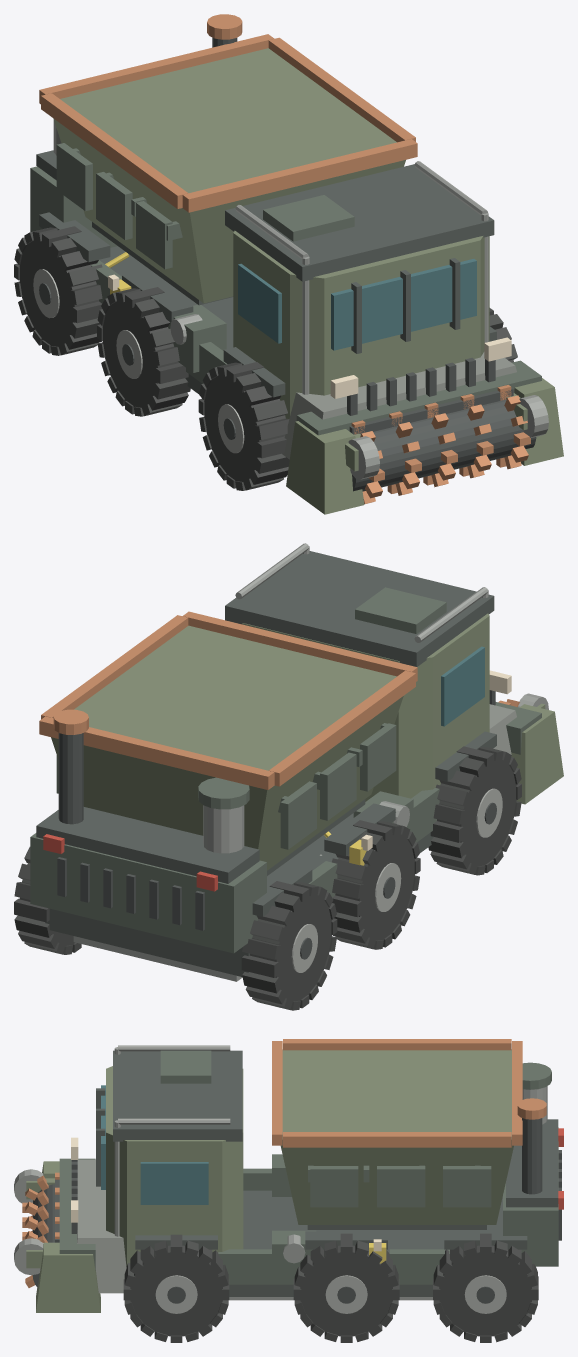
The model's file is aegis_field_harvester_v2.glb.
3 views of the same model, one above another, from view 1: azimuth 30°, elevation 25°; view 2: azimuth 150°, elevation 25°; view 3: azimuth 270°, elevation 25° (orthographic). The views are drawn at different scales.
Parts seen in each view (by area): view 1: Static_primary, Static_armor_dark, Static_secondary, Static_accent, Static_glass, FrontLeftWheelSpinRoot_Tire, RearLeftWheelSpinRoot_Tire, MidLeftWheelSpinRoot_Tire, CollectorDrum, CollectorTeeth, Static_steel_dark, Static_steel (+8 smaller); view 2: Static_primary, Static_armor_dark, Static_secondary, Static_accent, RearLeftWheelSpinRoot_Tire, FrontLeftWheelSpinRoot_Tire, MidLeftWheelSpinRoot_Tire, Static_steel_dark, Static_steel, RearRightWheelSpinRoot_Tire, Static_glass, Static_armor (+6 smaller); view 3: Static_primary, Static_armor_dark, Static_secondary, Static_accent, FrontRightWheelSpinRoot_Tire, RearRightWheelSpinRoot_Tire, MidRightWheelSpinRoot_Tire, Static_armor, Static_steel, Static_glass, Static_steel_dark, CollectorTeeth (+8 smaller).
Boxes of the visible parts, left/top/right/bottom form: Static_primary: left=53, top=48, right=563, bottom=514; Static_armor_dark: left=36, top=150, right=496, bottom=397; Static_secondary: left=30, top=143, right=541, bottom=435; Static_accent: left=39, top=14, right=417, bottom=212; Static_glass: left=238, top=259, right=476, bottom=350; FrontLeftWheelSpinRoot_Tire: left=198, top=362, right=289, bottom=490; RearLeftWheelSpinRoot_Tire: left=14, top=226, right=102, bottom=355; MidLeftWheelSpinRoot_Tire: left=97, top=287, right=190, bottom=416; CollectorDrum: left=352, top=399, right=536, bottom=491; CollectorTeeth: left=351, top=385, right=530, bottom=504; Static_steel_dark: left=212, top=37, right=513, bottom=434; Static_steel: left=53, top=120, right=488, bottom=394; Static_primary: left=51, top=613, right=563, bottom=870; Static_armor_dark: left=36, top=551, right=496, bottom=976; Static_secondary: left=30, top=587, right=541, bottom=953; Static_accent: left=39, top=611, right=417, bottom=789; RearLeftWheelSpinRoot_Tire: left=241, top=881, right=337, bottom=1010; FrontLeftWheelSpinRoot_Tire: left=428, top=746, right=521, bottom=875; MidLeftWheelSpinRoot_Tire: left=332, top=820, right=420, bottom=949; Static_steel_dark: left=57, top=690, right=495, bottom=930; Static_steel: left=73, top=543, right=488, bottom=981; RearRightWheelSpinRoot_Tire: left=14, top=847, right=81, bottom=954; Static_glass: left=441, top=646, right=484, bottom=726; Static_armor: left=489, top=704, right=516, bottom=754; Static_primary: left=36, top=1049, right=513, bottom=1312; Static_armor_dark: left=96, top=1050, right=558, bottom=1296; Static_secondary: left=59, top=1050, right=558, bottom=1284; Static_accent: left=272, top=1039, right=546, bottom=1147; FrontRightWheelSpinRoot_Tire: left=123, top=1234, right=229, bottom=1342; RearRightWheelSpinRoot_Tire: left=433, top=1233, right=538, bottom=1342; MidRightWheelSpinRoot_Tire: left=293, top=1233, right=399, bottom=1342; Static_armor: left=77, top=1159, right=126, bottom=1293; Static_steel: left=114, top=1045, right=547, bottom=1300; Static_glass: left=101, top=1085, right=208, bottom=1204; Static_steel_dark: left=55, top=1118, right=561, bottom=1242; CollectorTeeth: left=22, top=1172, right=59, bottom=1287.
Bounding box in the file's own units: 4.1 × 3.87 × 8.9.
